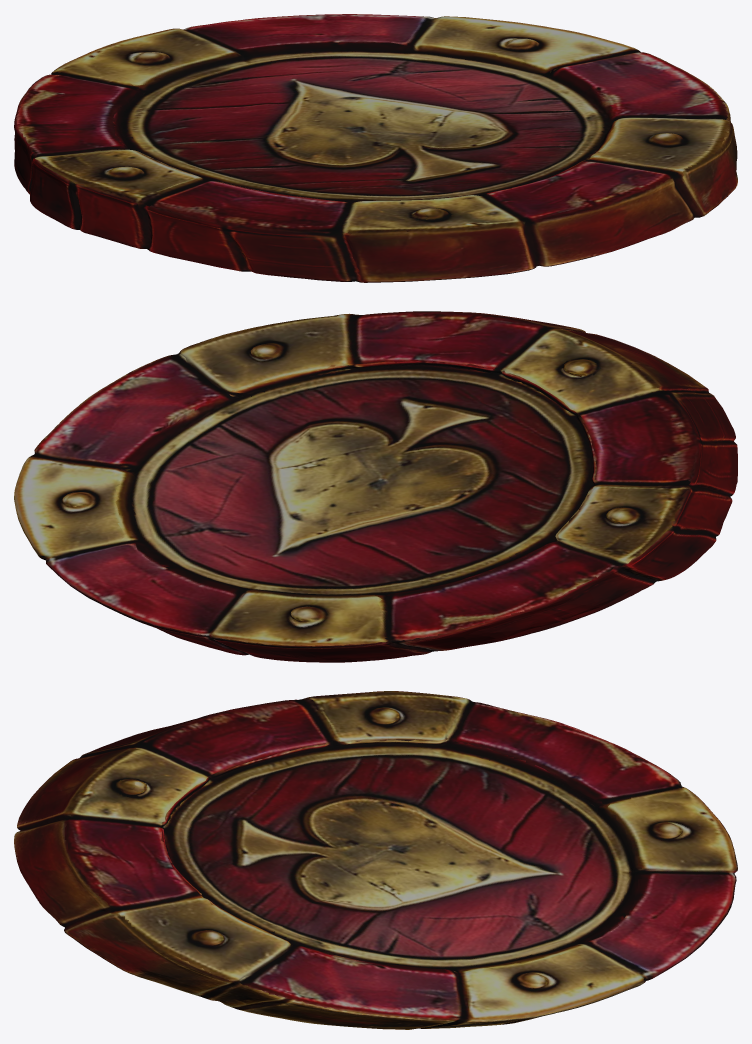
The model's file is chip-trial.glb.
3 renders of one model, top to bottom at view 1: azimuth 30°, elevation 25°; view 2: azimuth 150°, elevation 25°; view 3: azimuth 270°, elevation 25°, orthographic. The views are drawn at different scales.
Visible parts, largest first — view 1: geometry_0; view 2: geometry_0; view 3: geometry_0.
Part boxes in pixels (x1,y1,x2,y2): geometry_0: [14, 14, 737, 282]; geometry_0: [14, 311, 737, 662]; geometry_0: [14, 691, 737, 1029].
Bounding box in the file's own units: 0.0394 × 0.00547 × 0.04.
Materials: 1 (1 with a texture image).
